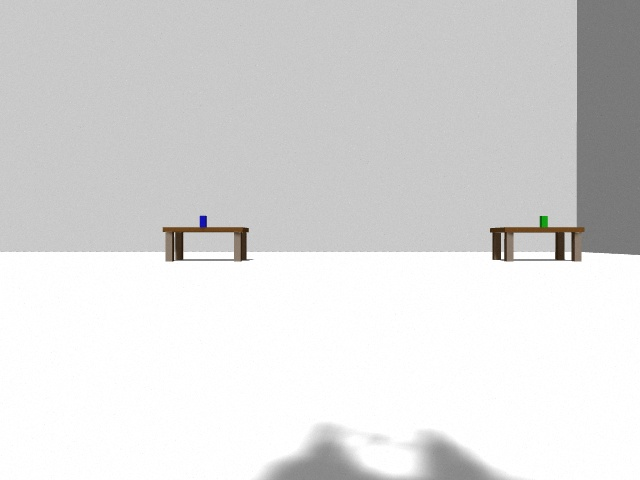blue_cube: (200, 216, 207, 227)
green_cube: (540, 216, 548, 227)
